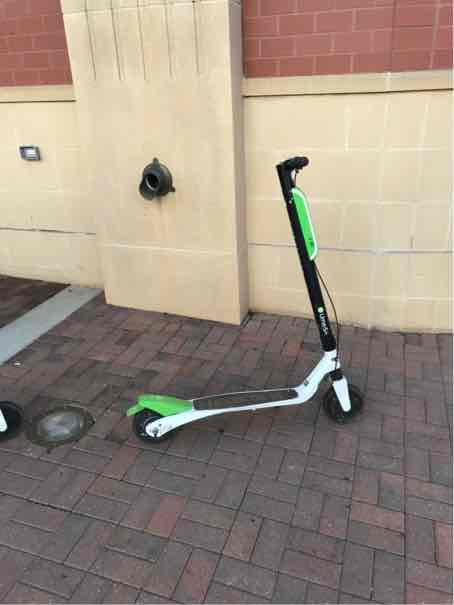scooter: (125, 139, 362, 457)
